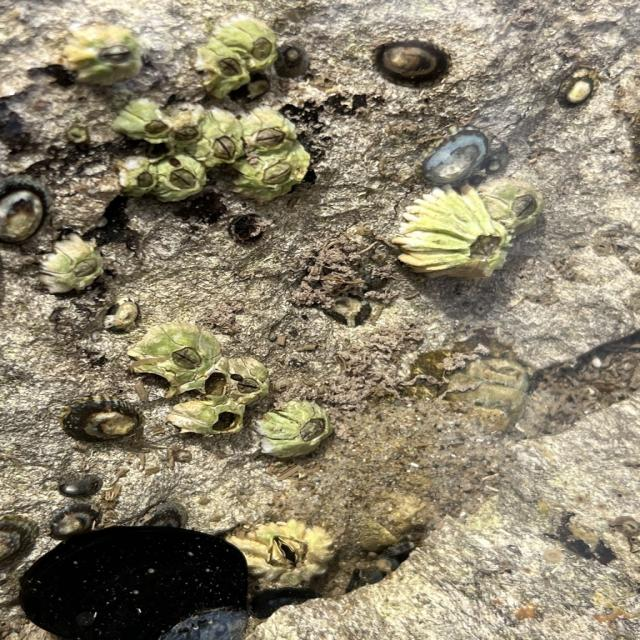barnacles: (392, 195, 527, 292), (125, 320, 217, 386), (63, 26, 156, 91), (41, 238, 114, 303), (481, 175, 547, 238), (266, 407, 332, 463), (241, 158, 314, 208), (239, 100, 301, 156), (167, 401, 245, 443), (223, 17, 279, 67), (162, 159, 212, 207), (170, 98, 211, 156), (198, 113, 240, 169), (119, 156, 162, 206), (120, 99, 167, 140)
